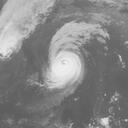cyclone: (48, 50, 83, 89)
